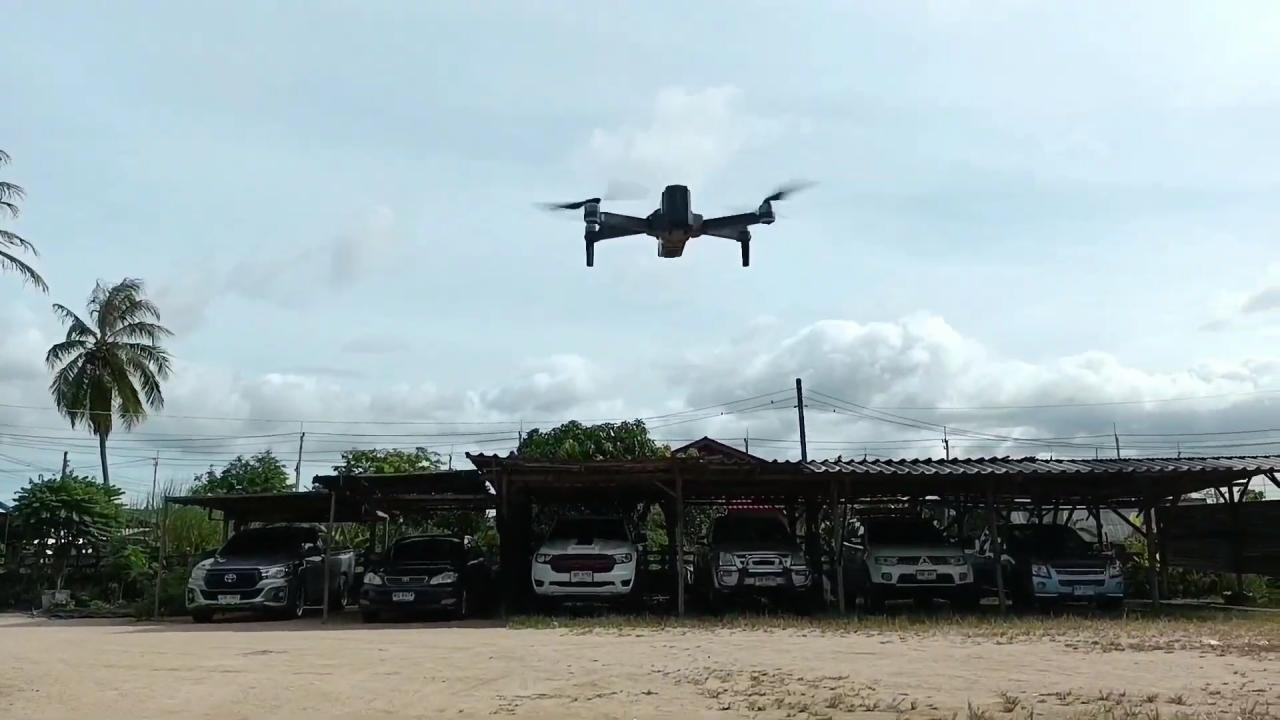Drone: (518, 163, 832, 276)
